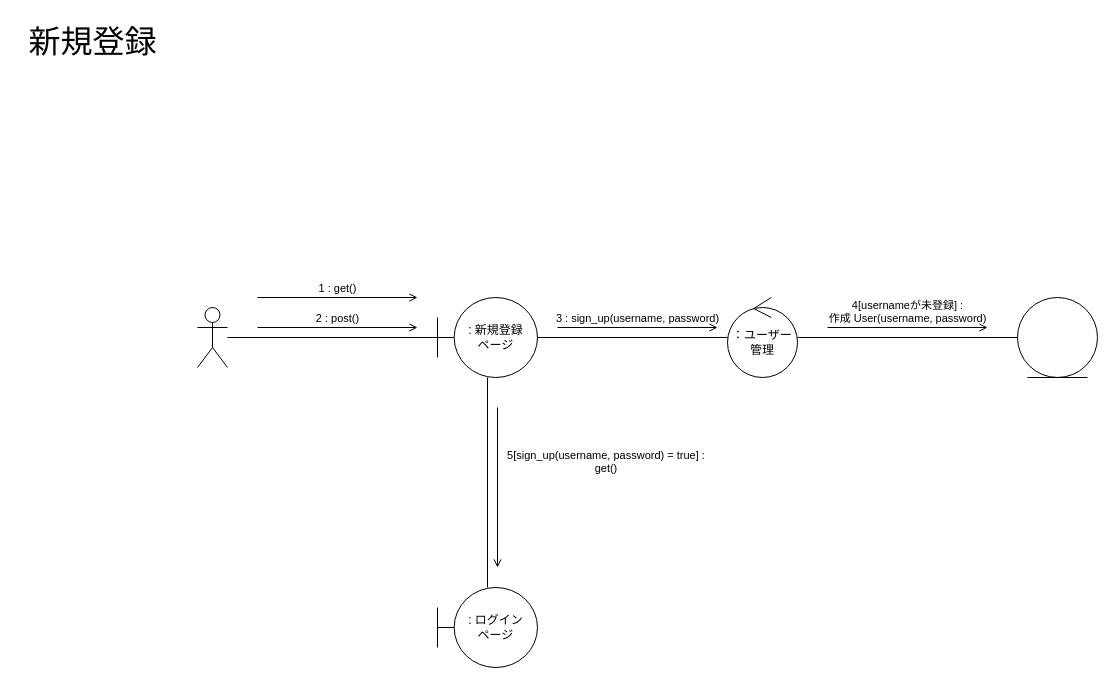
This 1115x685 diagram has some shape labels left out. The centre of each missing label's shape, as x and y in pixels:
"：ユーザ" belongs at [212,337].
"：ユーザー" belongs at [1057,337].
